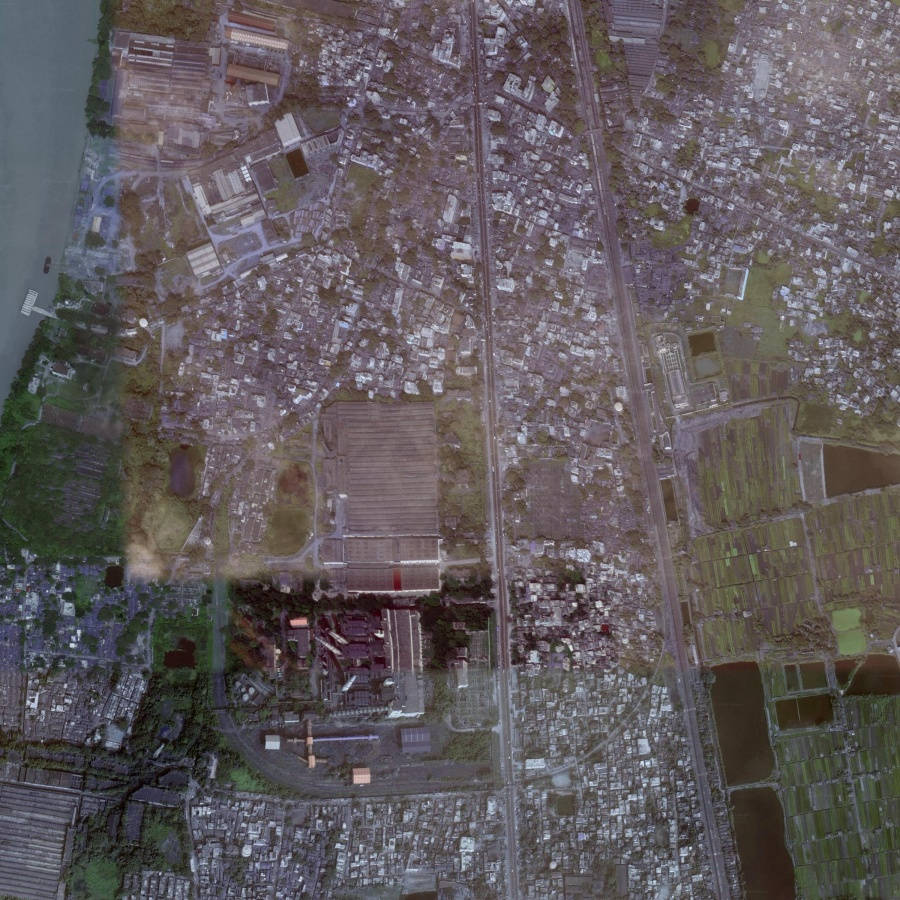PowerPlant: (219, 544, 464, 783)
